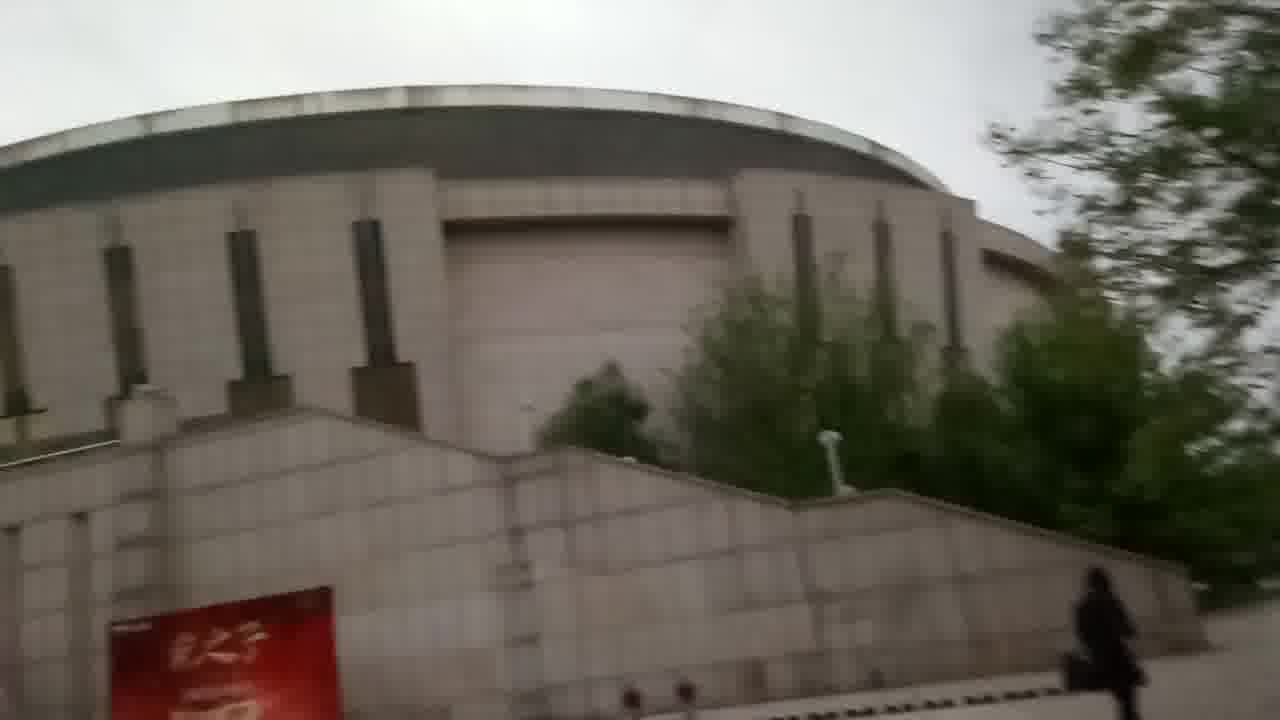zhongtiww: (6, 76, 1190, 720)
